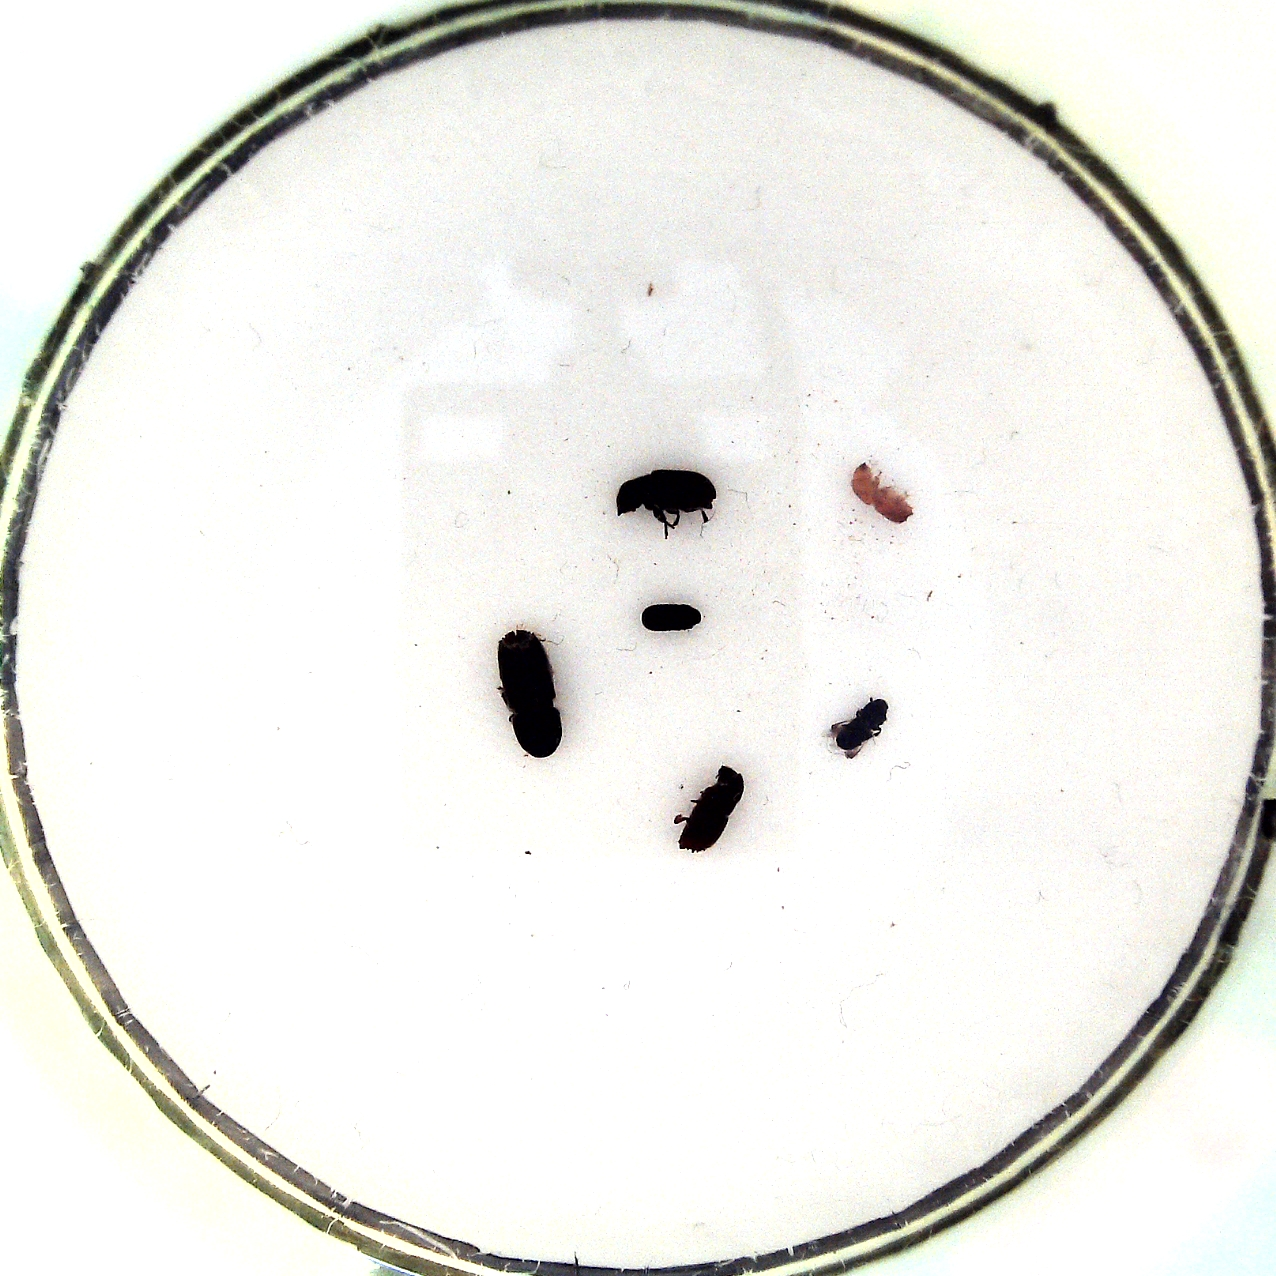Boerner: (493, 619, 570, 760)
Linnaeus: (667, 757, 747, 855)
acuminatus: (847, 457, 921, 529)
armandi: (606, 464, 723, 538)
coleoptera: (824, 693, 893, 762), (637, 592, 703, 637)
